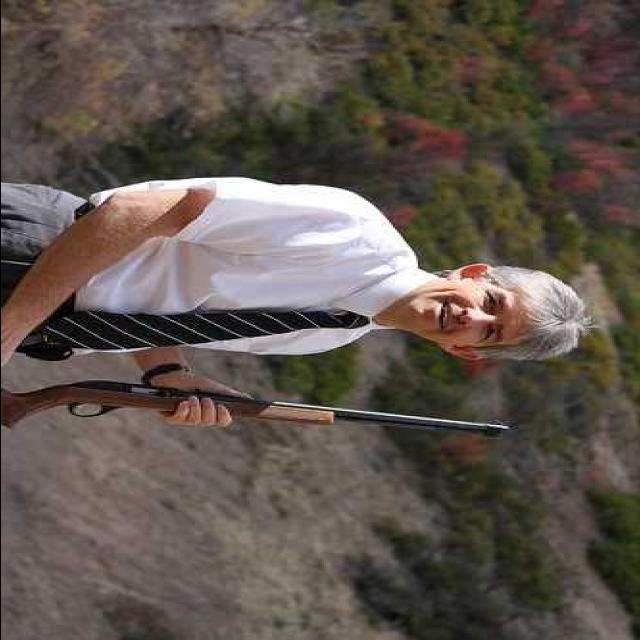heavyweapon: (2, 371, 526, 457)
